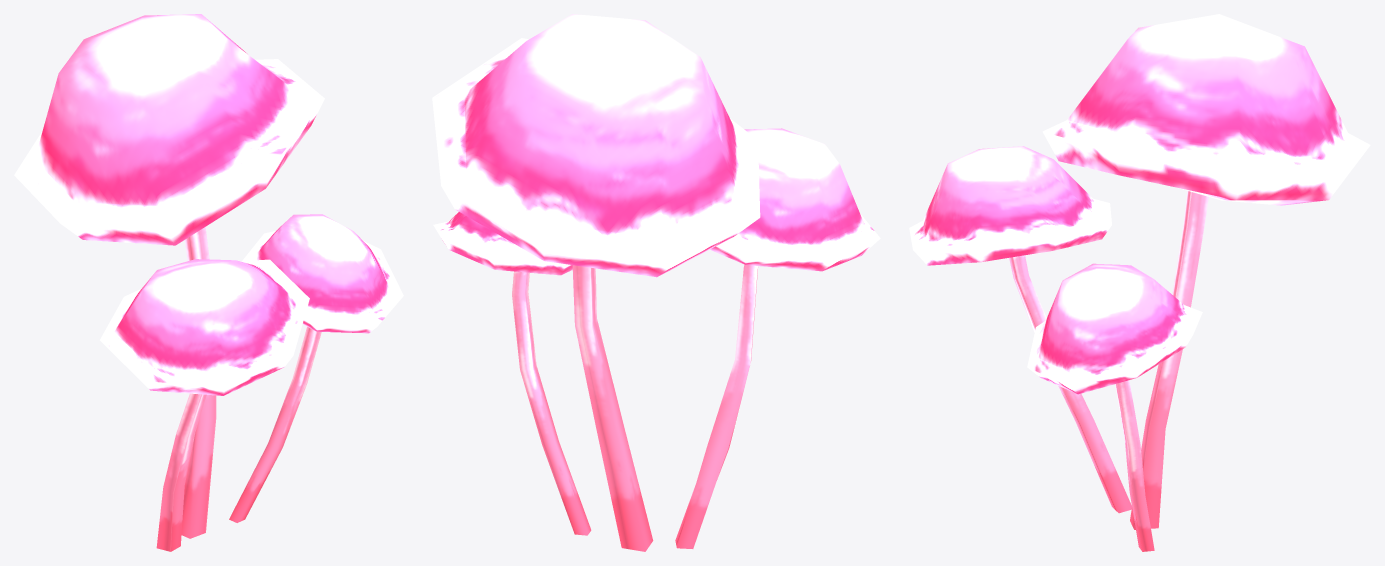
Rendered from SM_ENV_mushrooms_ancient_03_02.fbx.
3 renders of one model, left to right at view 1: azimuth 30°, elevation 25°; view 2: azimuth 150°, elevation 25°; view 3: azimuth 270°, elevation 25°, orthographic. The views are drawn at different scales.
Visible parts, largest first — view 1: SM_ENV_mushrooms_ancient_03_02_LOD0; view 2: SM_ENV_mushrooms_ancient_03_02_LOD0; view 3: SM_ENV_mushrooms_ancient_03_02_LOD0.
Boxes of the visible parts, x1=… form: SM_ENV_mushrooms_ancient_03_02_LOD0: x1=14, y1=14, x2=403, y2=551; SM_ENV_mushrooms_ancient_03_02_LOD0: x1=432, y1=14, x2=880, y2=551; SM_ENV_mushrooms_ancient_03_02_LOD0: x1=909, y1=14, x2=1370, y2=551.
Size of the model in its own units: 22.59 by 32.14 by 26.88.
